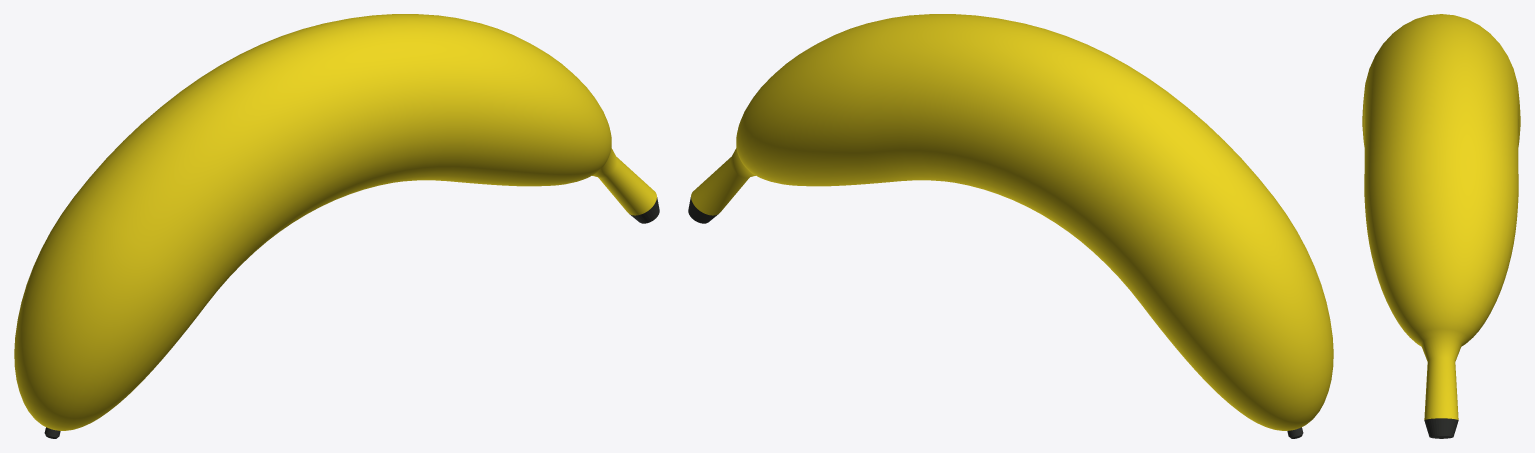
Rendered from banana.fbx.
The picture shows the model from 3 angles, left to right: view 1: azimuth 30°, elevation 25°; view 2: azimuth 150°, elevation 25°; view 3: azimuth 270°, elevation 25°; orthographic projection. The views are drawn at different scales.
Visible parts, largest first — view 1: banana; view 2: banana; view 3: banana.
Boxes of the visible parts, x1,y1,x2,y2 form: banana: (14,14,659,438); banana: (688,14,1333,438); banana: (1362,14,1520,438).
Bounding box in the file's own units: 1057 × 540 × 242.
